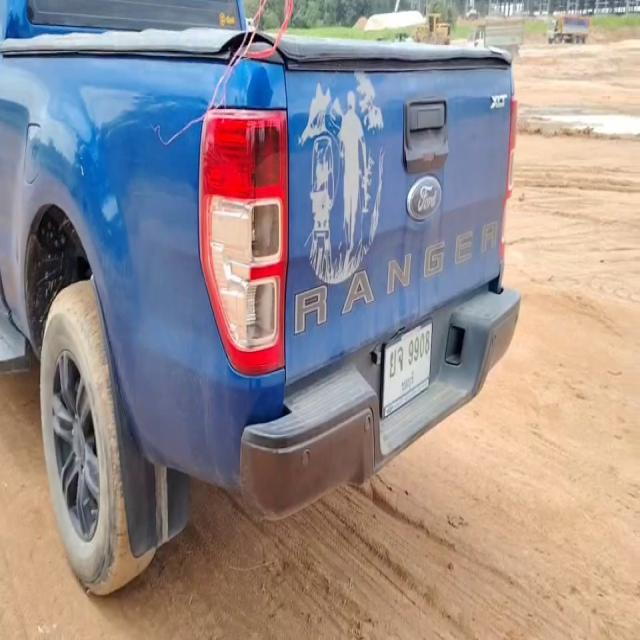Digit: (408, 328, 431, 368)
Licenseplate: (381, 316, 435, 424)
Provincename: (400, 368, 417, 394)
Thaichar: (389, 339, 403, 377)
